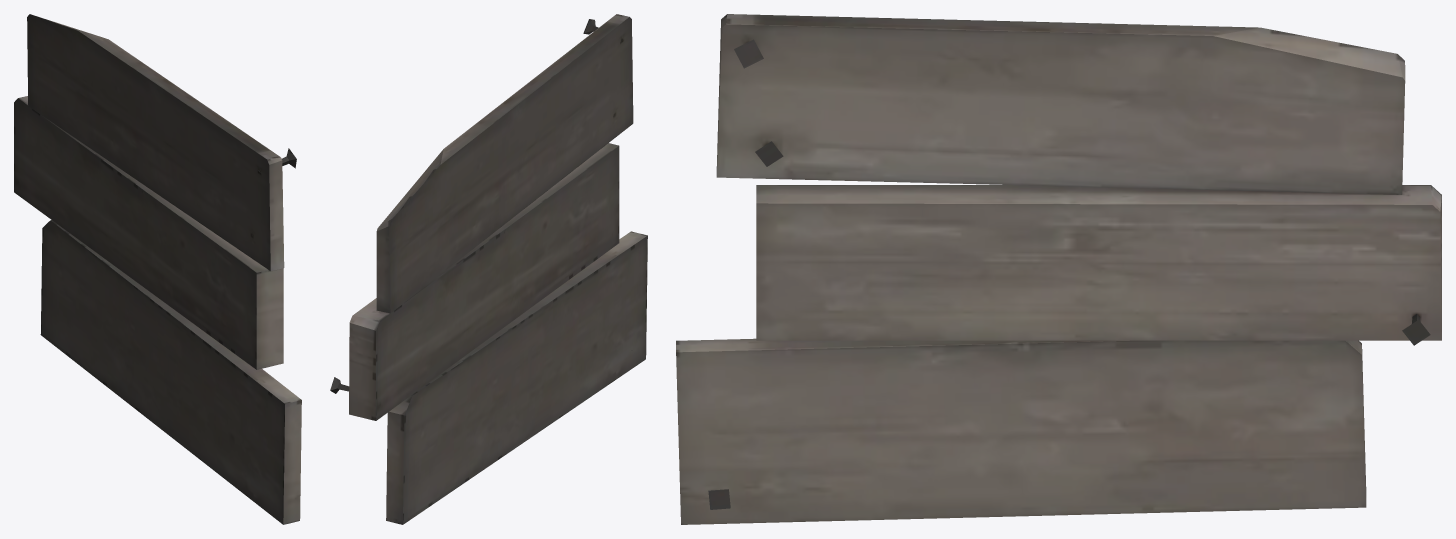
3 views of the same model, side by side, from view 1: azimuth 30°, elevation 25°; view 2: azimuth 150°, elevation 25°; view 3: azimuth 270°, elevation 25° (orthographic). The views are drawn at different scales.
Parts seen in each view (by area): view 1: body0_model0_lod0_mesh0; view 2: body0_model0_lod0_mesh0; view 3: body0_model0_lod0_mesh0.
Part boxes in pixels (left/top/right/bottom): body0_model0_lod0_mesh0: left=14, top=14, right=301, bottom=524; body0_model0_lod0_mesh0: left=330, top=14, right=647, bottom=524; body0_model0_lod0_mesh0: left=676, top=14, right=1441, bottom=524.
Bounding box in the file's own units: 9.79 × 65.42 × 90.92.
Materials: 1 (1 with a texture image).
